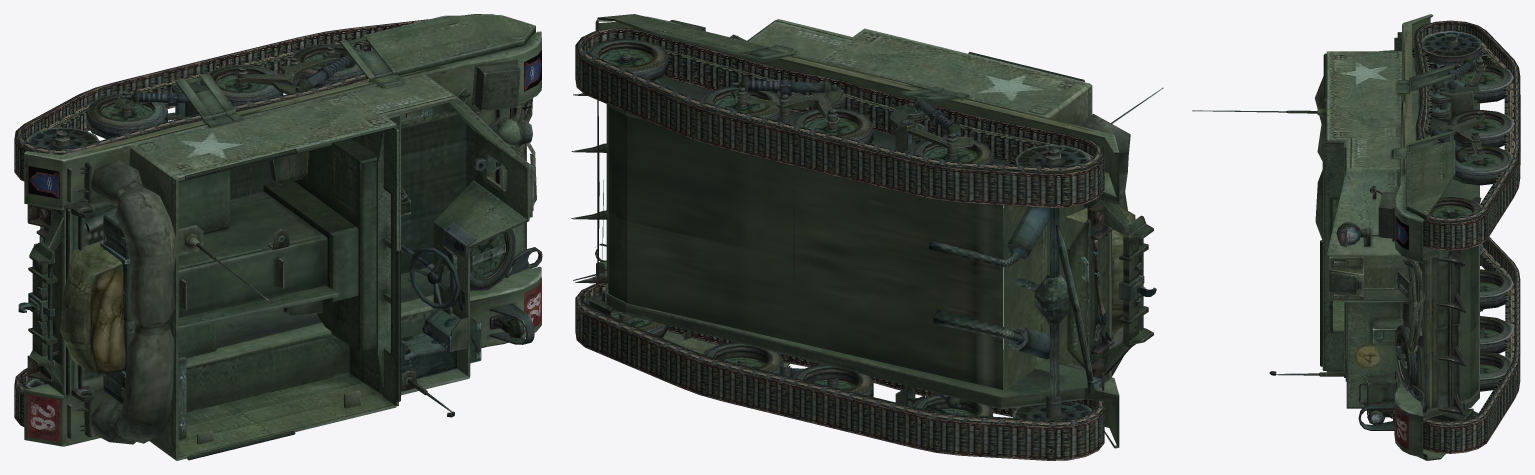
File: vehicle_uni_carrier_gr_static.glb
3 views of the same model, side by side, from view 1: azimuth 30°, elevation 25°; view 2: azimuth 150°, elevation 25°; view 3: azimuth 270°, elevation 25° (orthographic). The views are drawn at different scales.
Bounding box in the file's own units: 159 × 93.89 × 103.
4 materials, 4 textured.
